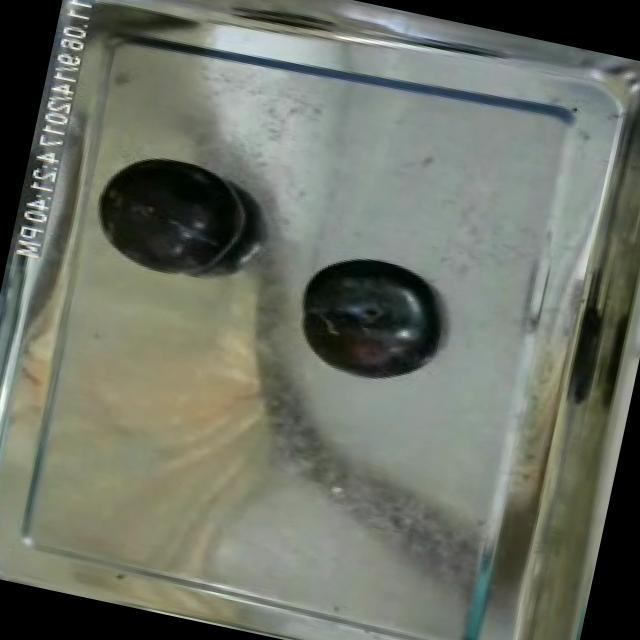Fruit: (82, 142, 264, 294), (282, 240, 458, 395)
